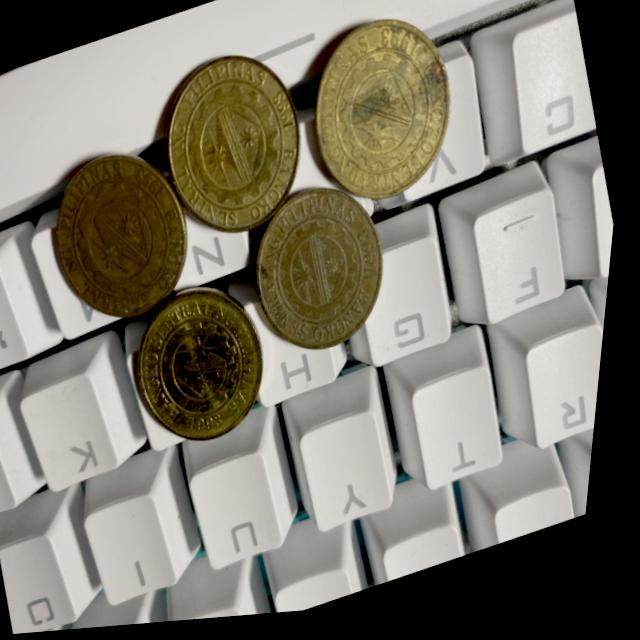25Cent_Old_Back: (293, 0, 480, 211), (155, 43, 327, 250), (244, 177, 411, 377), (123, 272, 293, 468), (47, 139, 209, 334)
